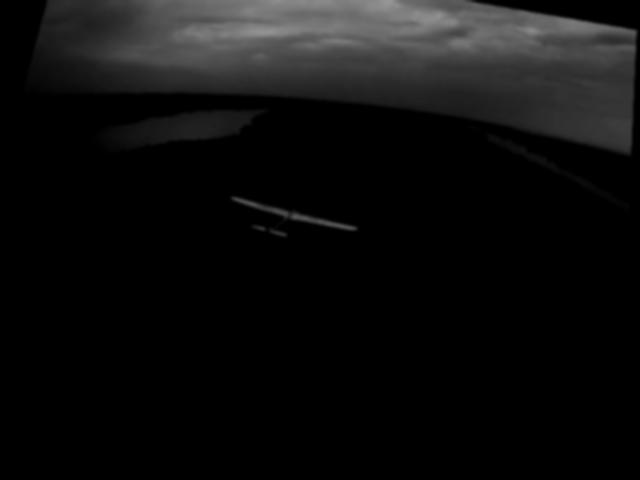hedef: (205, 174, 376, 276)
